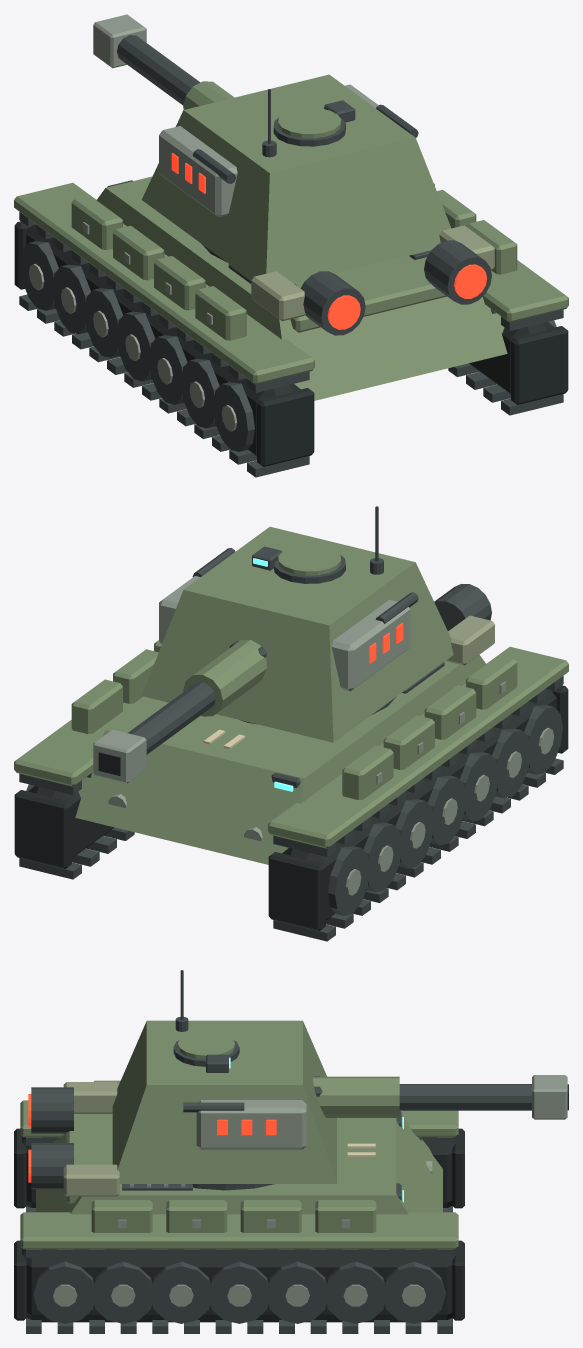
Rendered from tank_titan_premium.glb.
3 views of the same model, one above another, from view 1: azimuth 30°, elevation 25°; view 2: azimuth 150°, elevation 25°; view 3: azimuth 270°, elevation 25° (orthographic). The views are drawn at different scales.
Visible parts, largest first — view 1: tank_titan_mk2_TankPaint.007, tank_titan_mk2_TankPaint.008, tank_titan_mk2_RunningGear.007, tank_titan_mk2_TankTracks.007, tank_titan_mk2_ArmorEdges.008, tank_titan_mk2_RunningGear.008, tank_titan_mk2_Canvas.001, tank_titan_mk2_ArmorEdges.007, tank_titan_mk2_CoreGlow.006; view 2: tank_titan_mk2_TankPaint.007, tank_titan_mk2_TankPaint.008, tank_titan_mk2_RunningGear.007, tank_titan_mk2_TankTracks.007, tank_titan_mk2_ArmorEdges.008, tank_titan_mk2_RunningGear.008, tank_titan_mk2_ArmorEdges.007, tank_titan_mk2_Canvas.001; view 3: tank_titan_mk2_TankPaint.007, tank_titan_mk2_TankPaint.008, tank_titan_mk2_RunningGear.007, tank_titan_mk2_TankTracks.007, tank_titan_mk2_ArmorEdges.008, tank_titan_mk2_RunningGear.008, tank_titan_mk2_ArmorEdges.007, tank_titan_mk2_Canvas.001, tank_titan_mk2_CoreGlow.007.
Boxes of the visible parts, x1,y1,x2,y2 form: tank_titan_mk2_TankPaint.007: (14, 176, 568, 400); tank_titan_mk2_TankPaint.008: (141, 74, 451, 283); tank_titan_mk2_RunningGear.007: (19, 180, 563, 477); tank_titan_mk2_TankTracks.007: (14, 221, 568, 466); tank_titan_mk2_ArmorEdges.008: (93, 14, 378, 217); tank_titan_mk2_RunningGear.008: (117, 35, 418, 261); tank_titan_mk2_Canvas.001: (251, 225, 494, 321); tank_titan_mk2_ArmorEdges.007: (29, 222, 236, 431); tank_titan_mk2_CoreGlow.006: (327, 264, 486, 329); tank_titan_mk2_TankPaint.007: (14, 640, 568, 864); tank_titan_mk2_TankPaint.008: (141, 526, 453, 742); tank_titan_mk2_RunningGear.007: (19, 584, 563, 941); tank_titan_mk2_TankTracks.007: (14, 685, 568, 930); tank_titan_mk2_ArmorEdges.008: (93, 576, 410, 783); tank_titan_mk2_RunningGear.008: (127, 506, 418, 754); tank_titan_mk2_ArmorEdges.007: (108, 681, 553, 895); tank_titan_mk2_Canvas.001: (446, 615, 494, 665); tank_titan_mk2_TankPaint.007: (20, 1080, 458, 1249); tank_titan_mk2_TankPaint.008: (112, 1020, 399, 1183); tank_titan_mk2_RunningGear.007: (26, 1087, 452, 1333); tank_titan_mk2_TankTracks.007: (14, 1128, 464, 1322); tank_titan_mk2_ArmorEdges.008: (196, 1075, 567, 1149); tank_titan_mk2_RunningGear.008: (173, 970, 531, 1190); tank_titan_mk2_ArmorEdges.007: (53, 1160, 432, 1306); tank_titan_mk2_Canvas.001: (63, 1082, 119, 1196); tank_titan_mk2_CoreGlow.007: (217, 1119, 276, 1135).
Bounding box in the file's own units: 2.73 × 2.45 × 4.54.
